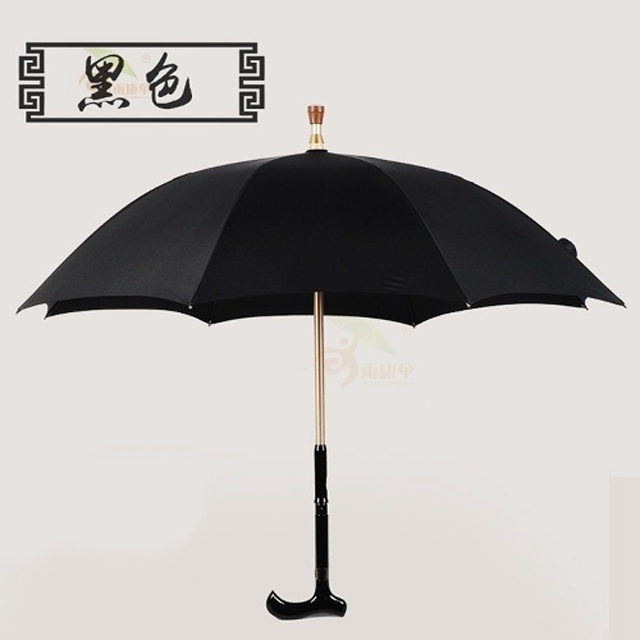umbrella: (13, 104, 630, 622)
